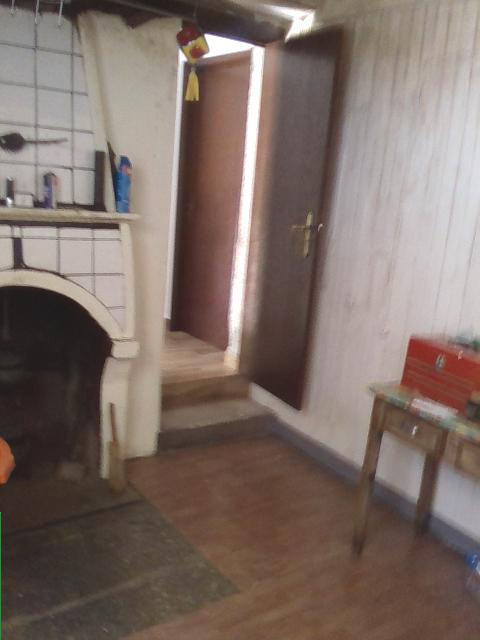open_door: (163, 14, 281, 401)
